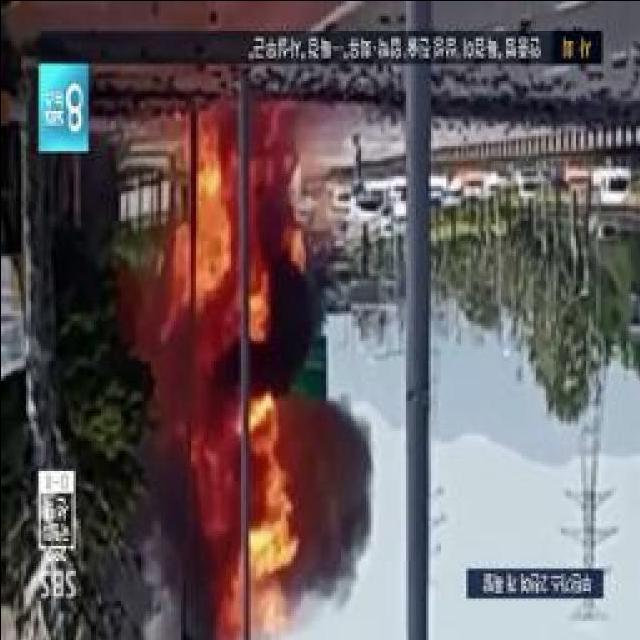Fire: (162, 110, 267, 358), (193, 406, 295, 609)
